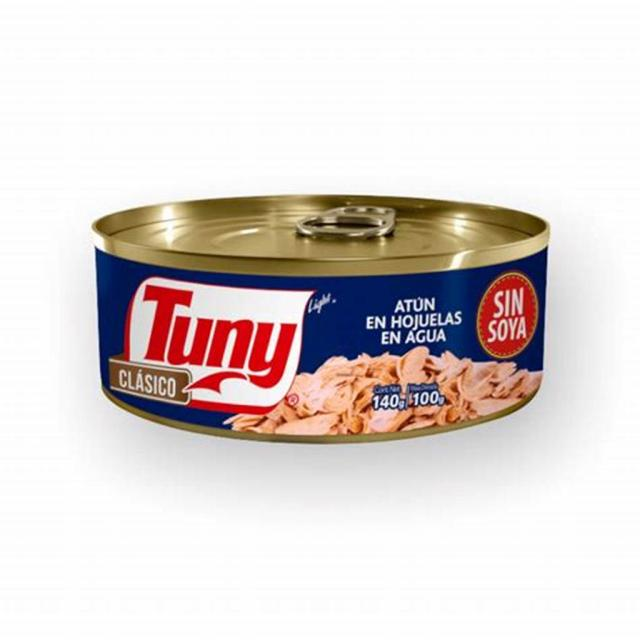Lata: (87, 186, 549, 458)
